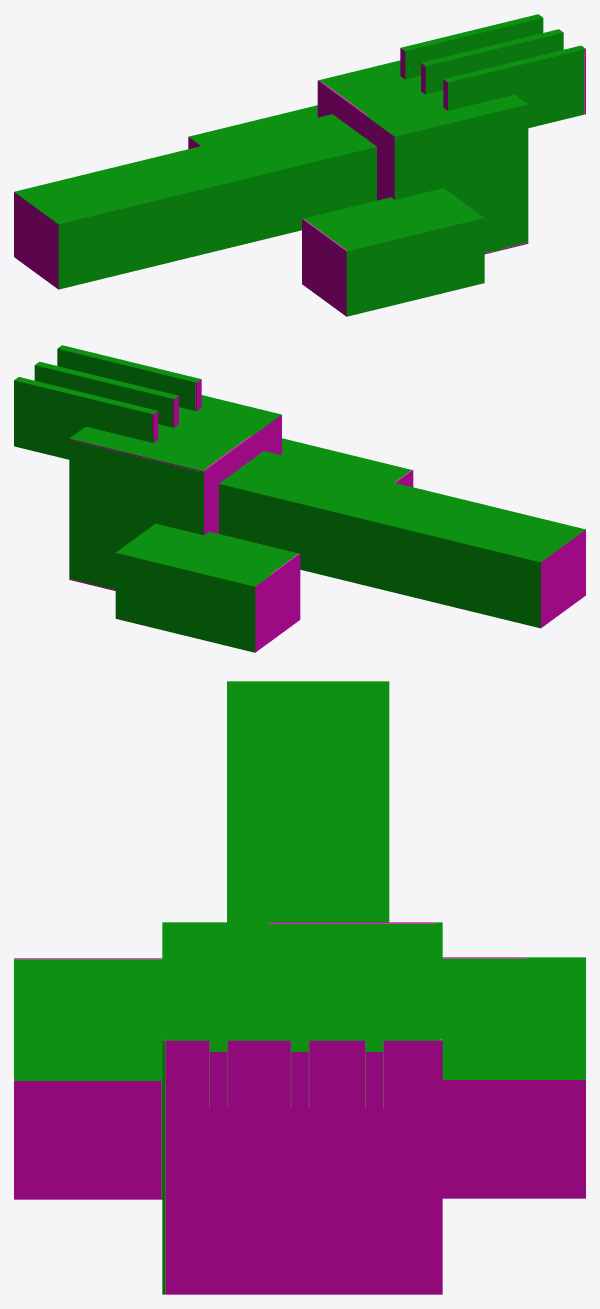
File: spaceship_enemy_01.fbx
The picture shows the model from 3 angles, top to bottom: view 1: azimuth 30°, elevation 25°; view 2: azimuth 150°, elevation 25°; view 3: azimuth 270°, elevation 25°; orthographic projection. The views are drawn at different scales.
Visible parts, largest first — view 1: Enemy; view 2: Enemy; view 3: Enemy.
Part boxes in pixels (x1=…): Enemy: x1=14, y1=14, x2=585, y2=316; Enemy: x1=14, y1=345, x2=585, y2=652; Enemy: x1=14, y1=681, x2=585, y2=1294.
Bounding box in the file's own units: 3245 × 1690 × 996.
1 material, 1 textured.
